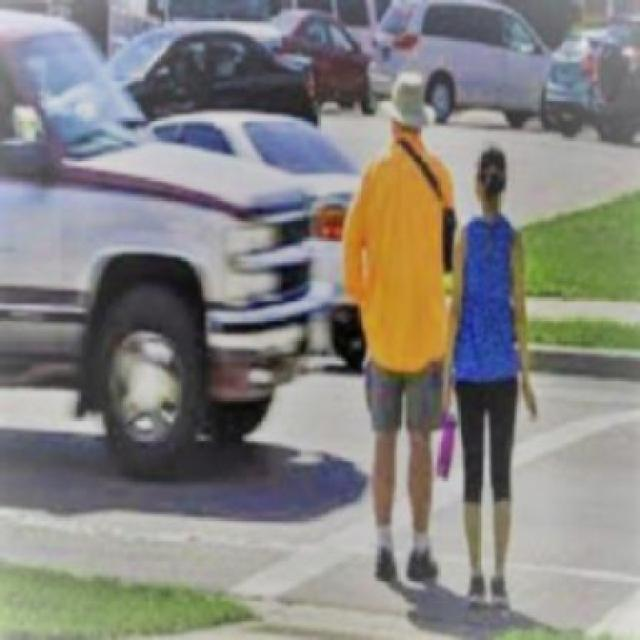Person: (340, 72, 454, 582), (459, 147, 541, 608)
